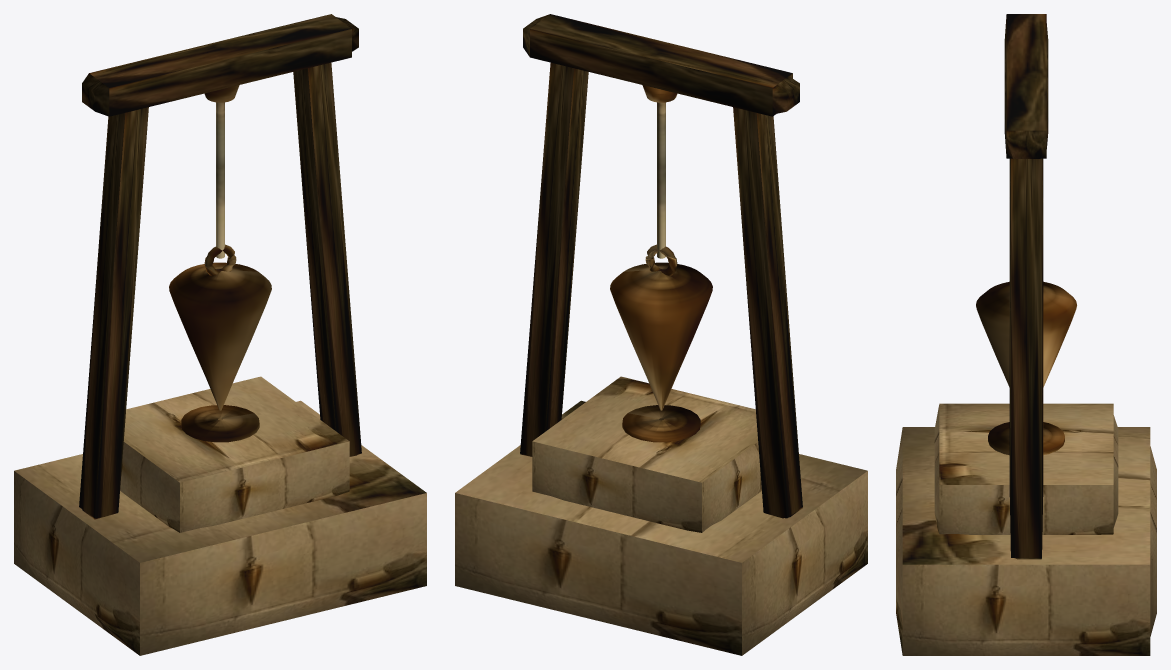
The model's file is zerubbabels-plumb-line.glb.
3 views of the same model, side by side, from view 1: azimuth 30°, elevation 25°; view 2: azimuth 150°, elevation 25°; view 3: azimuth 270°, elevation 25° (orthographic).
Visible parts, largest first — view 1: HeroRelicMonument; view 2: HeroRelicMonument; view 3: HeroRelicMonument.
Boxes of the visible parts, x1,y1,x2,y2 form: HeroRelicMonument: (14,14,426,655); HeroRelicMonument: (455,14,867,655); HeroRelicMonument: (896,14,1156,655).
Size of the model in its own units: 1.42 by 2.37 by 1.08.
1 material, 1 textured.
